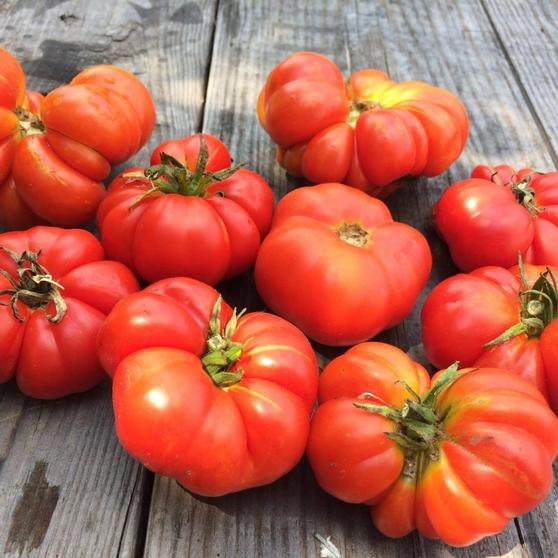tomato: (106, 278, 320, 499), (315, 342, 556, 533), (263, 45, 472, 191), (259, 173, 427, 339), (2, 224, 130, 415), (120, 130, 274, 287)
